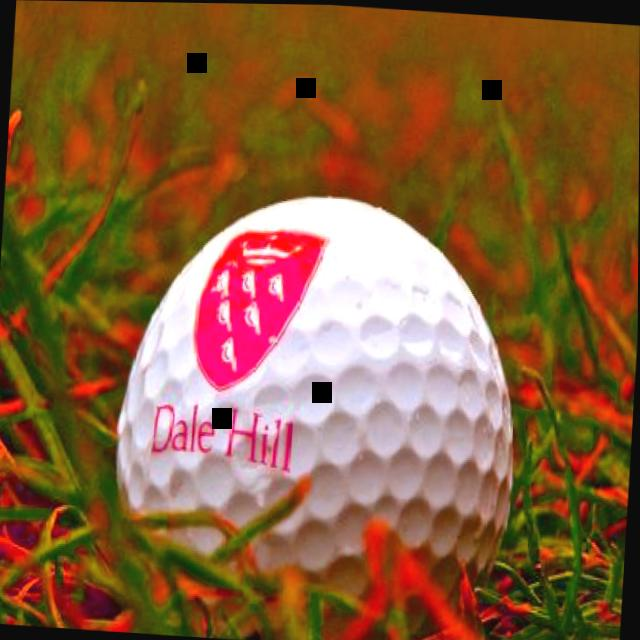golf ball: (105, 184, 534, 624)
